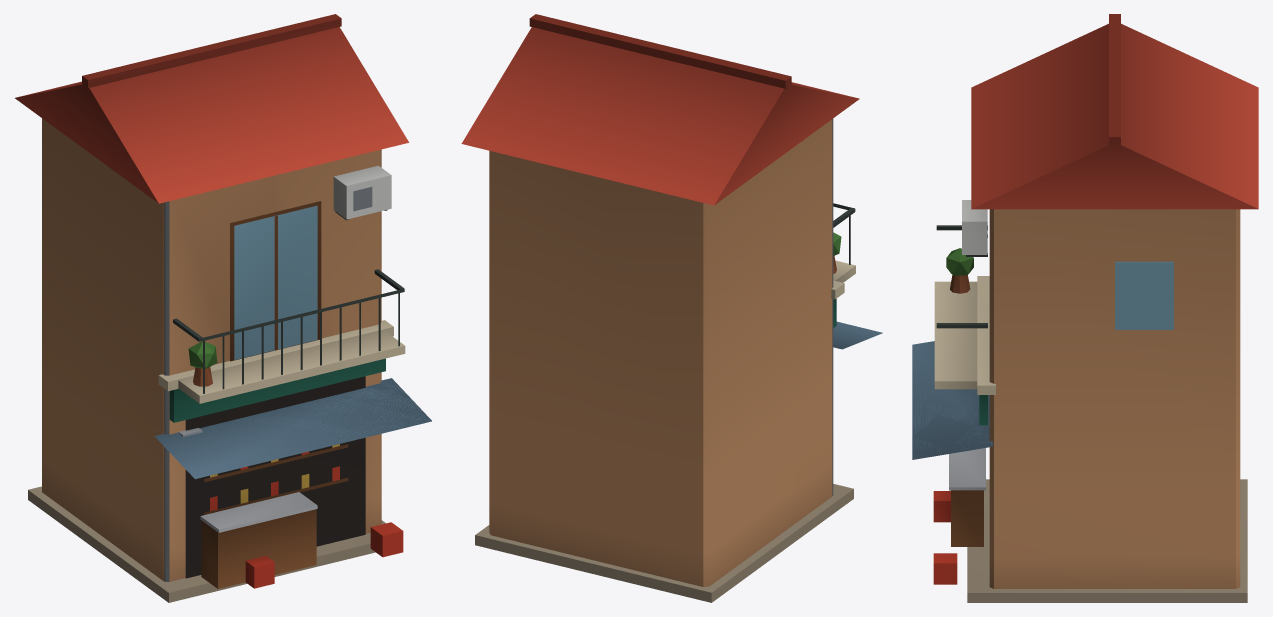
File: nha-pho-c.glb
3 views of the same model, side by side, from view 1: azimuth 30°, elevation 25°; view 2: azimuth 150°, elevation 25°; view 3: azimuth 270°, elevation 25° (orthographic).
Visible parts, largest first — view 1: nha-pho-c; view 2: nha-pho-c; view 3: nha-pho-c.
Boxes of the visible parts, <box> form: nha-pho-c: <box>15,14,431,602</box>; nha-pho-c: <box>461,14,882,602</box>; nha-pho-c: <box>912,14,1258,602</box>.
Bounding box in the file's own units: 3.95 × 7.04 × 4.7.
